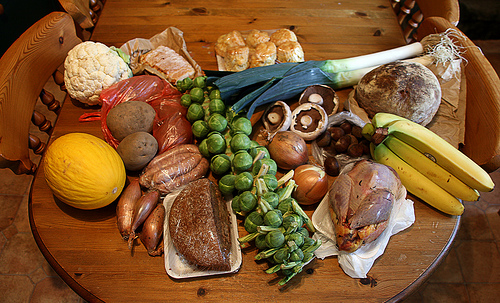cauliflower: (62, 39, 136, 108)
